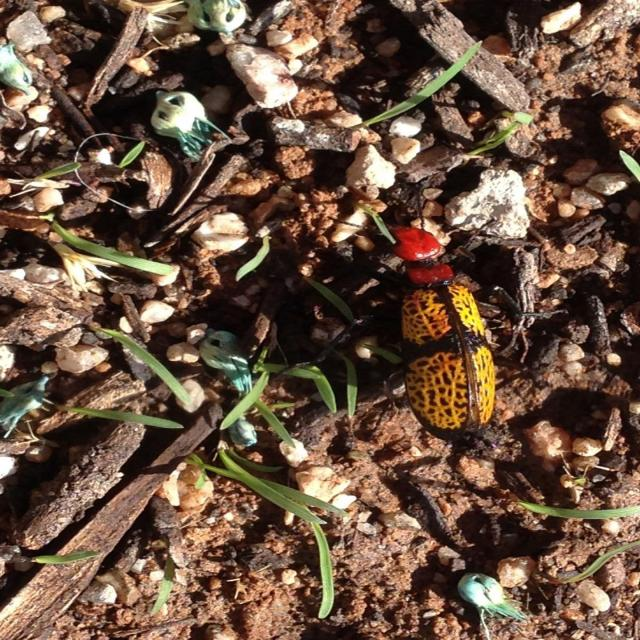BlisterBeetle-Adult-: (351, 181, 518, 456)
